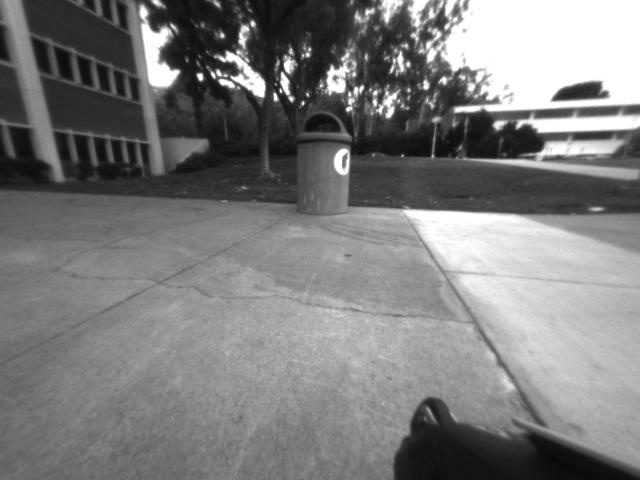trashcan: (288, 104, 362, 219)
